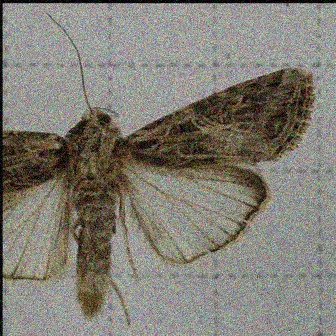Spodoptera litura: (3, 13, 315, 325)
